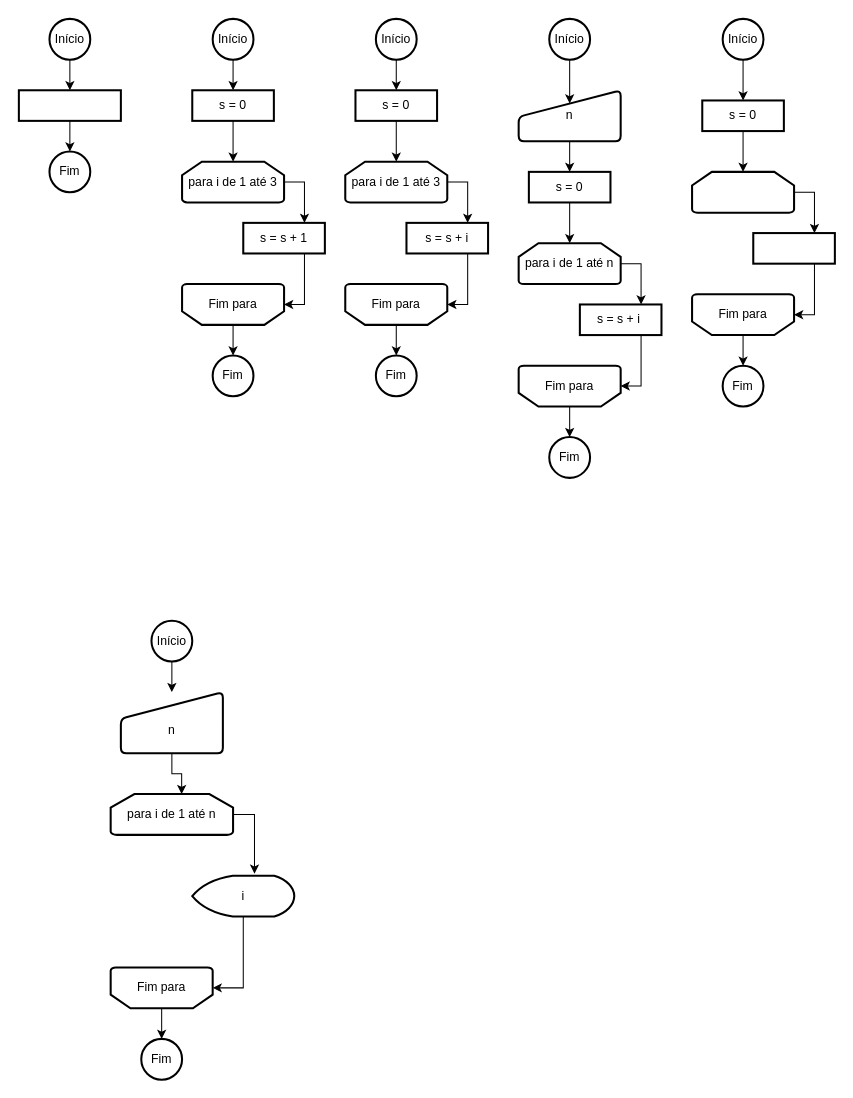
This 853x1098 diagram has some shape labels left out. Here are the shapes that lost their labels. From the top down, the centre of each, then its label:
At (69,105): "s = 1 + 2 + 3 + 4".
At (743,191): "para i de 1 até 10".
At (793,248): "s = s + i / i * i".
